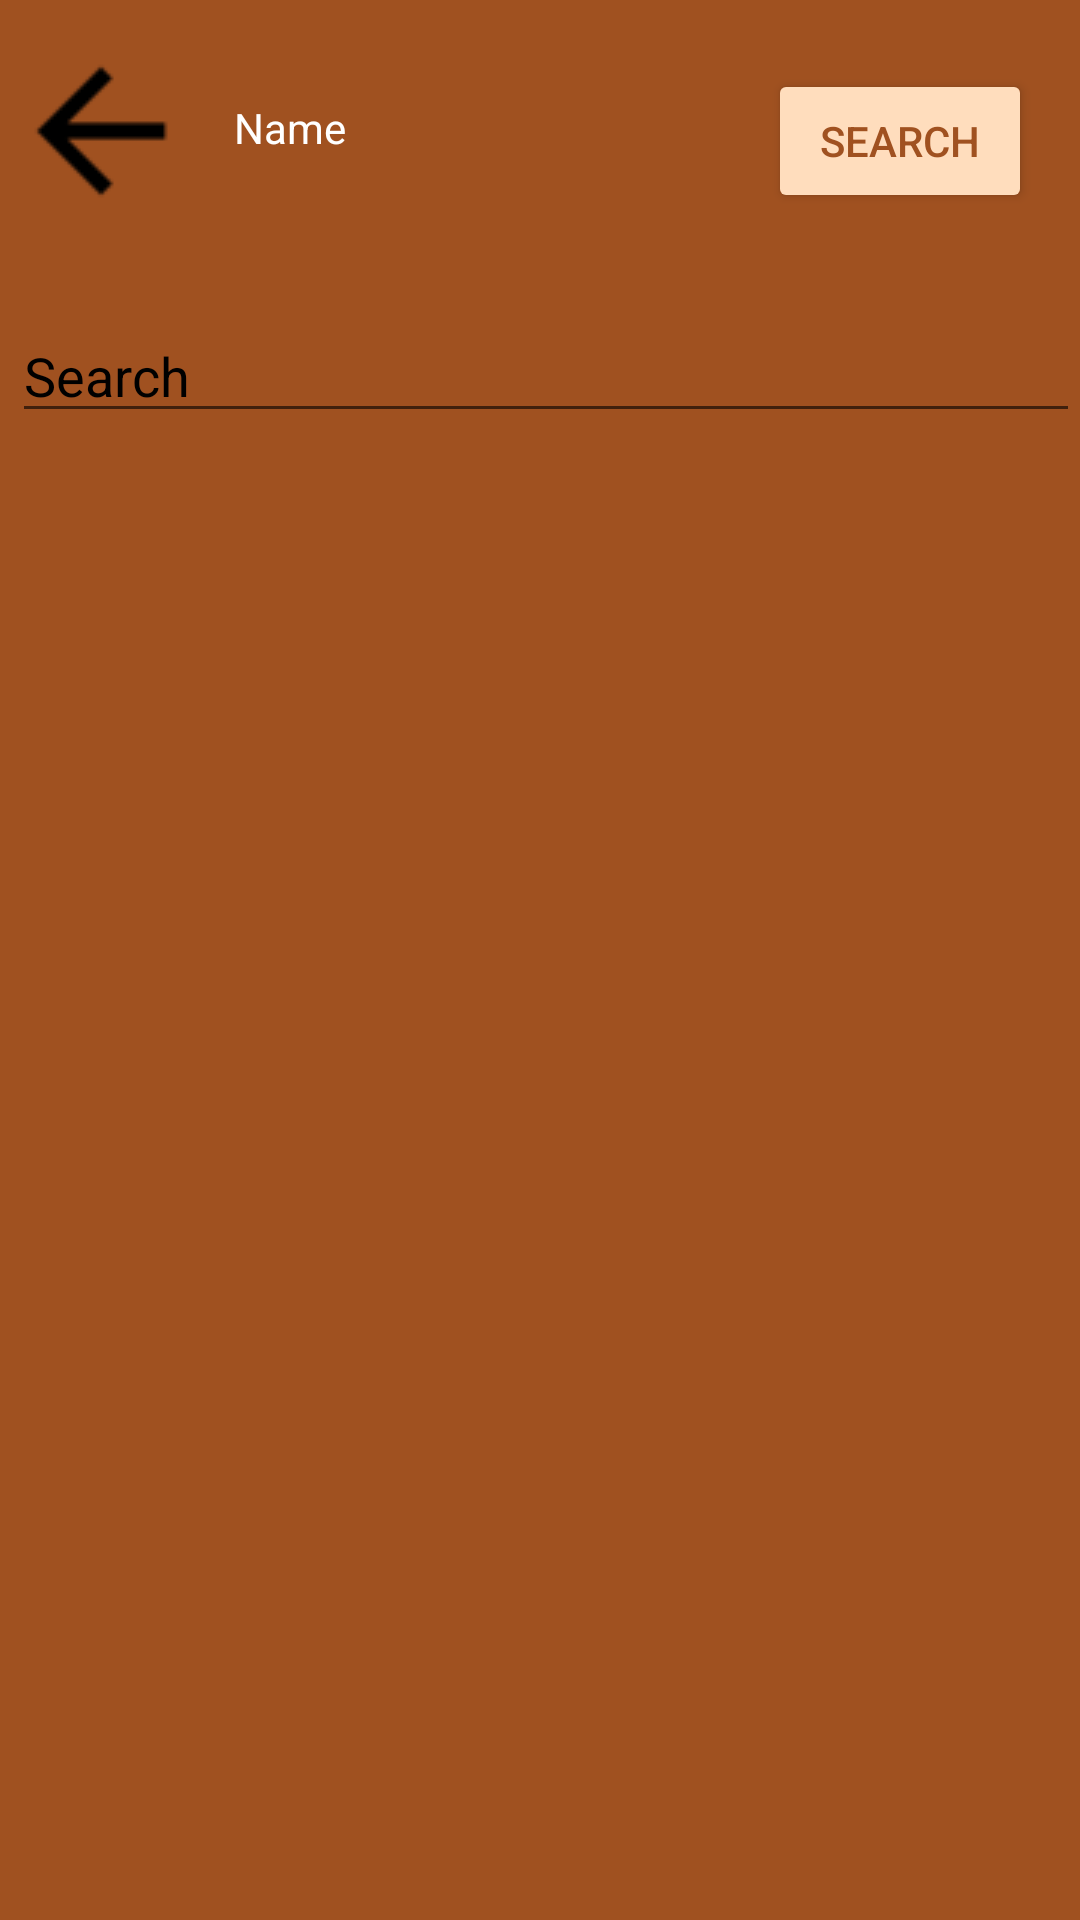

Icon bounding boxes for this 1080 × 1920 phone screenshot, format bbox=(x1, y1, x2, y2):
back: bbox=(37, 67, 167, 195)
